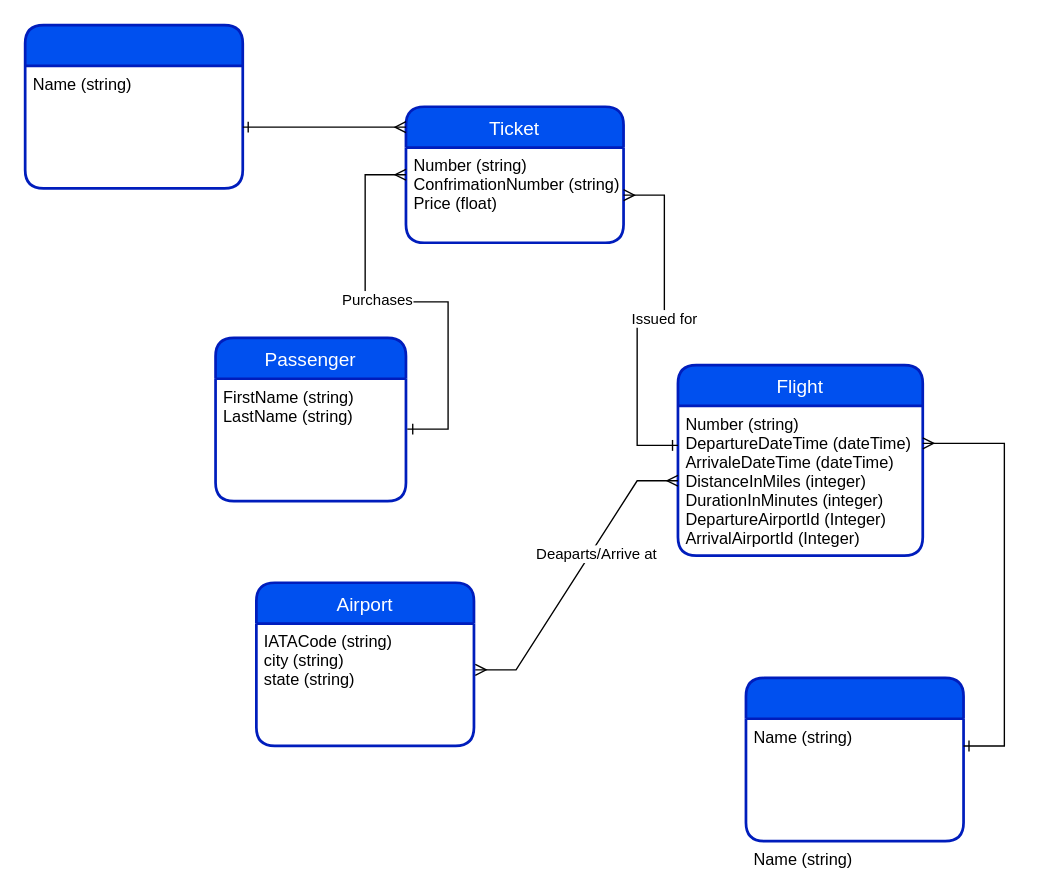
Some shapes in this 1040 by 892 pixel diagram are drawn without their labels. Each missing label, with the box of its shape:
Airline: (744, 676, 964, 842)
FlightClass: (23, 23, 243, 189)
